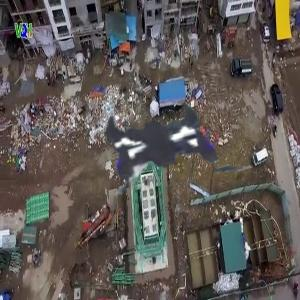drone: (27, 18, 300, 291)
